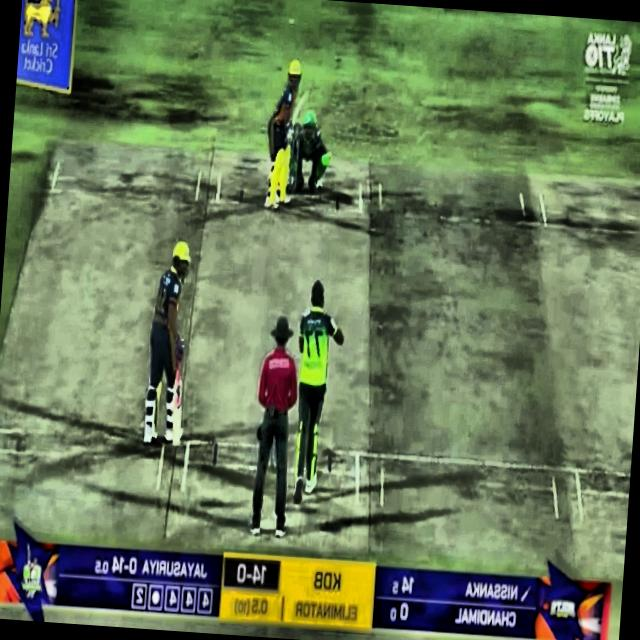Left-stump: (293, 128, 300, 195)
Middle-stump: (288, 128, 295, 195)
